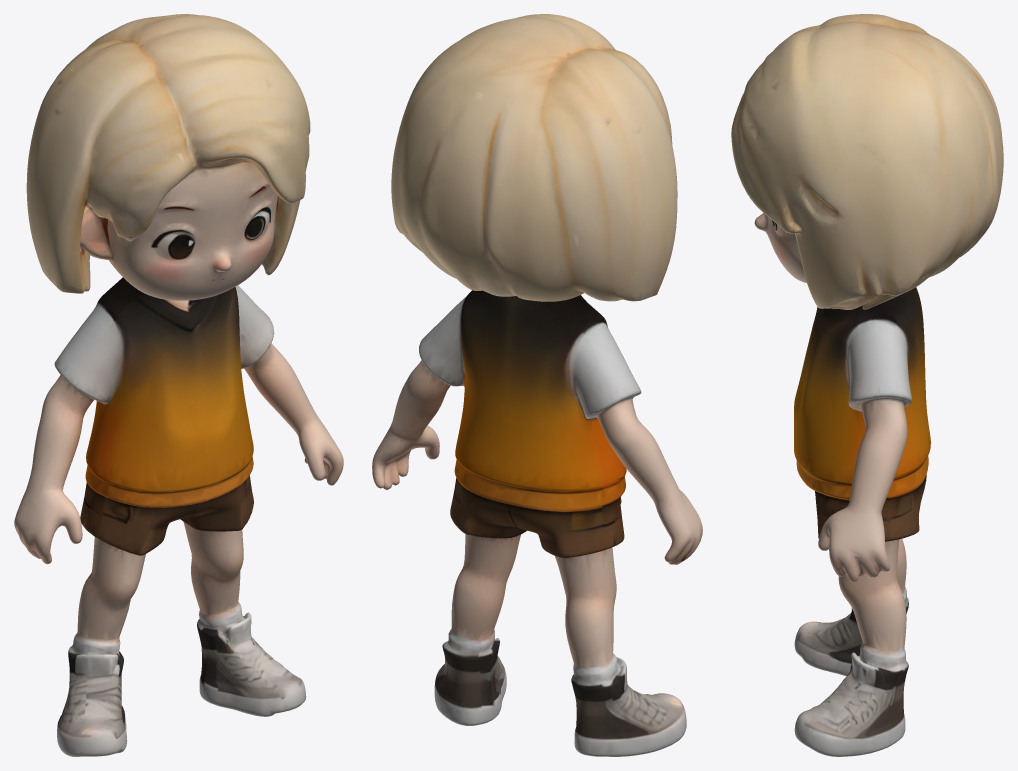
File: big_head_baby.glb
3 views of the same model, side by side, from view 1: azimuth 30°, elevation 25°; view 2: azimuth 150°, elevation 25°; view 3: azimuth 270°, elevation 25° (orthographic).
Visible parts, largest first — view 1: texture_v100.001; view 2: texture_v100.001; view 3: texture_v100.001.
Boxes of the visible parts, x1=… form: texture_v100.001: x1=14, y1=14, x2=343, y2=756; texture_v100.001: x1=372, y1=14, x2=702, y2=756; texture_v100.001: x1=731, y1=14, x2=1003, y2=756.
Bounding box in the file's own units: 0.537 × 1.12 × 0.4085.
Materials: 1 (1 with a texture image).
